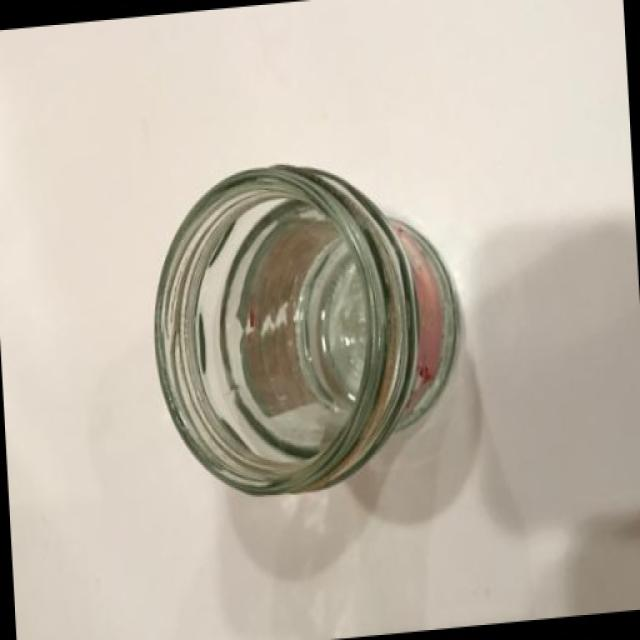vidrio: (135, 132, 507, 509)
